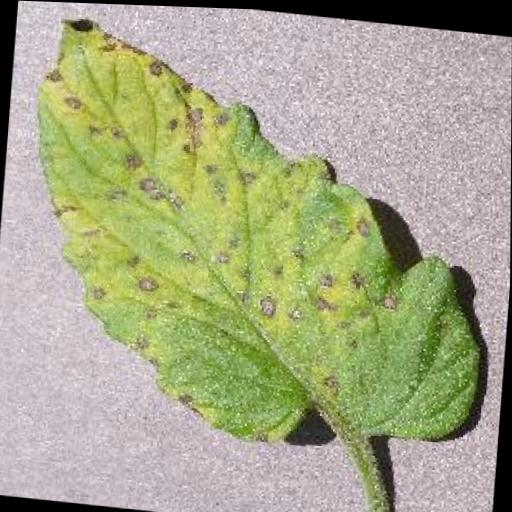Septoria: (14, 6, 504, 460)
